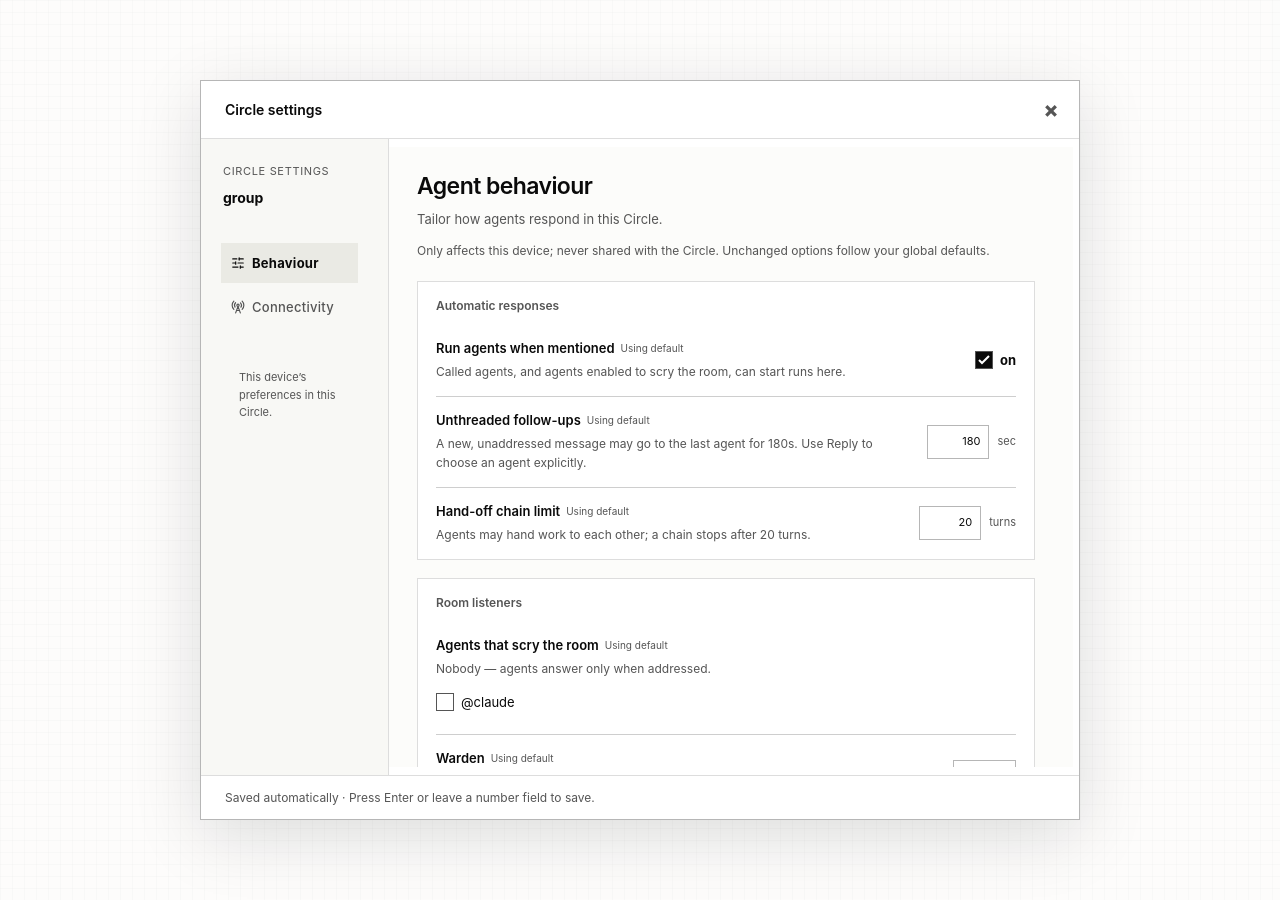
Test: settings recovery › retries the connectivity request, not an unrelated configuration request
Step 1. Click the tab "Connectivity" → click(290, 307), box x1=221 y1=287 x2=358 y2=327
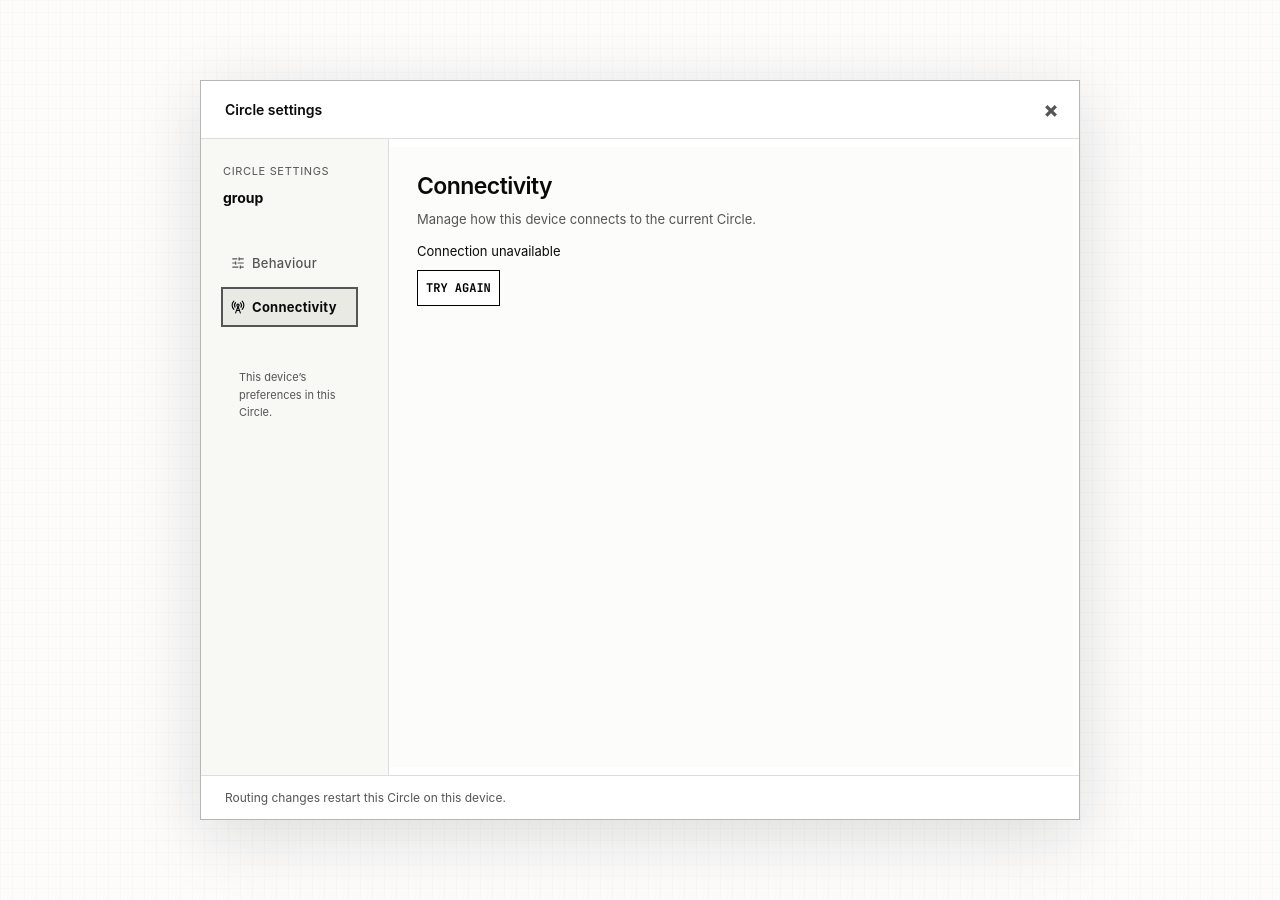
Expected: the message "Connection unavailable TRY AGAIN" is shown, x1=417 y1=243 x2=560 y2=306
Step 2. Click the button "TRY AGAIN" → click(458, 288), box x1=417 y1=270 x2=500 y2=306
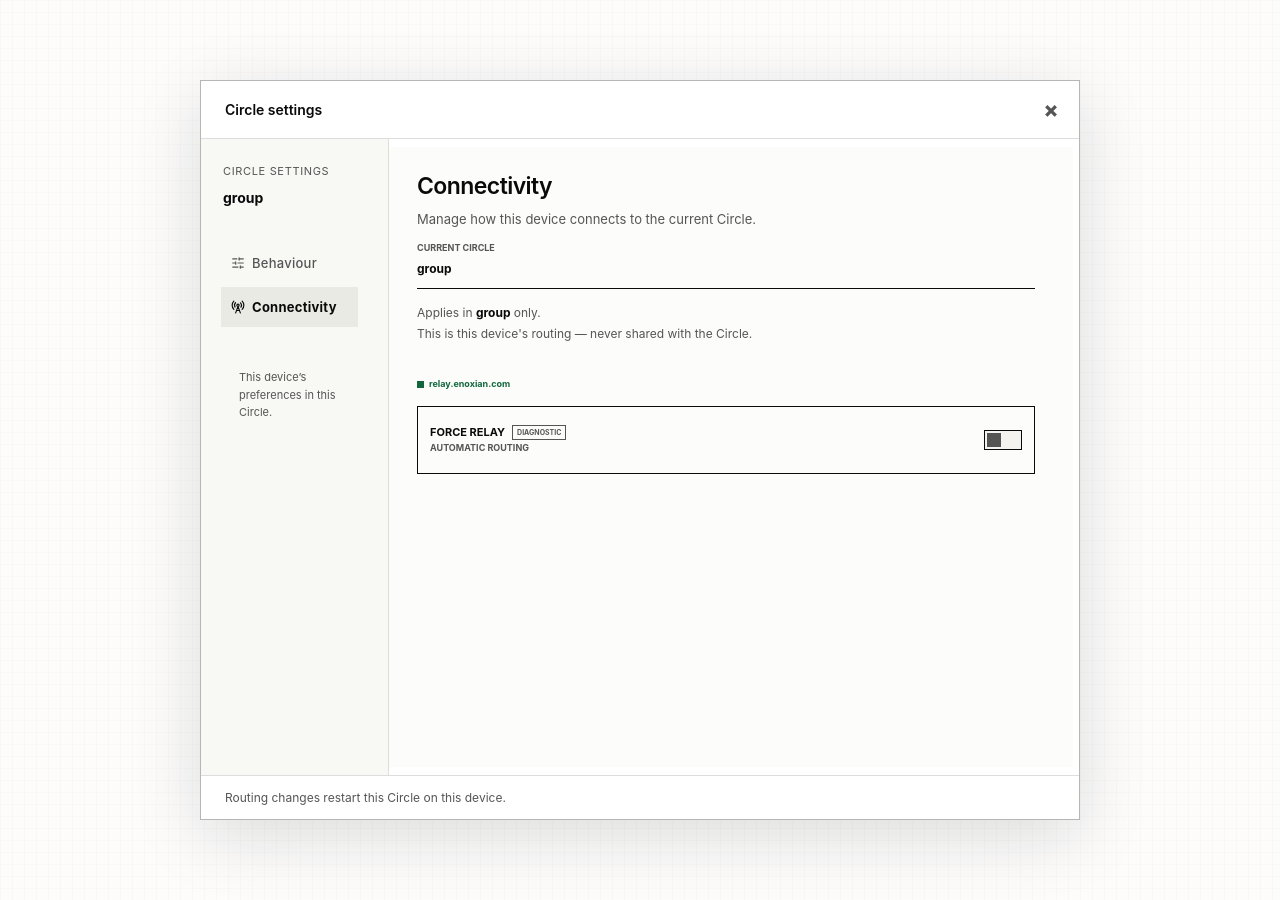
Expected: the element titled "https://relay.enoxian.com/" is shown, x1=417 y1=377 x2=510 y2=392
